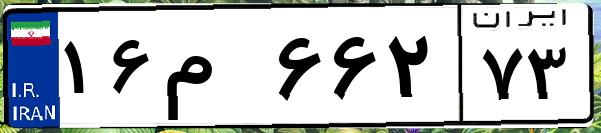1: (57, 26, 110, 100)
2: (385, 28, 445, 110)
3: (525, 38, 570, 115)
6: (270, 28, 330, 110), (330, 28, 385, 110), (110, 28, 158, 98)
7: (475, 38, 525, 113)
م: (158, 20, 270, 120)
